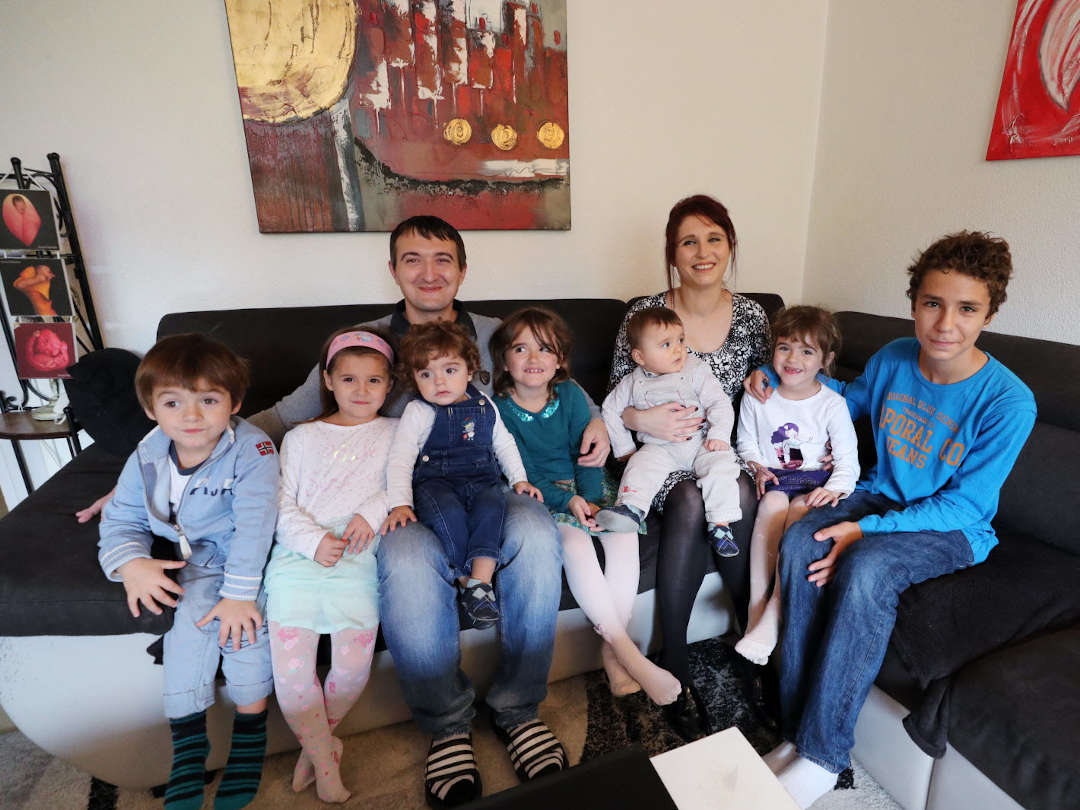without_mask: (909, 267, 983, 363), (144, 370, 236, 443), (666, 207, 735, 300), (392, 236, 468, 307), (503, 325, 565, 395), (329, 346, 390, 417), (770, 322, 825, 394), (410, 351, 476, 405), (640, 321, 694, 370)
